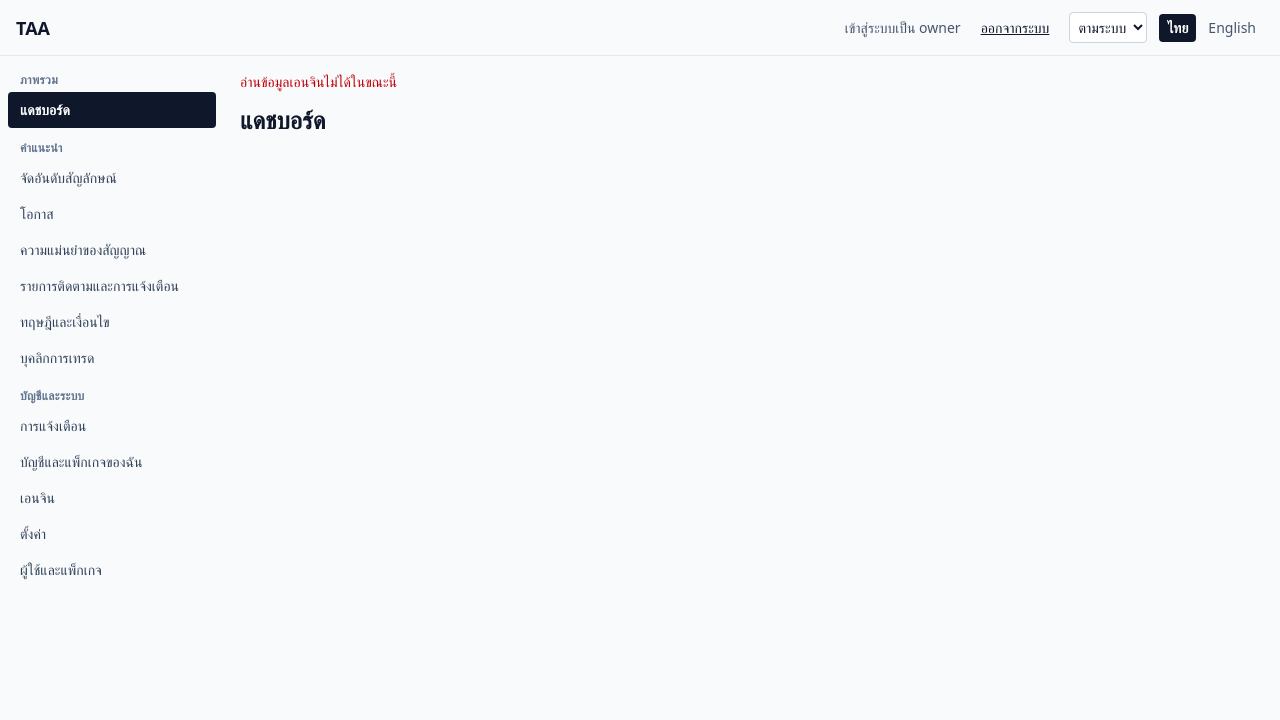
Test: logout › posts with the CSRF token and lands on the login page
The width and height of the screenshot is (1280, 720).
Click the button "ออกจากระบบ".
click(1015, 28)  # box left=973, top=14, right=1057, bottom=42
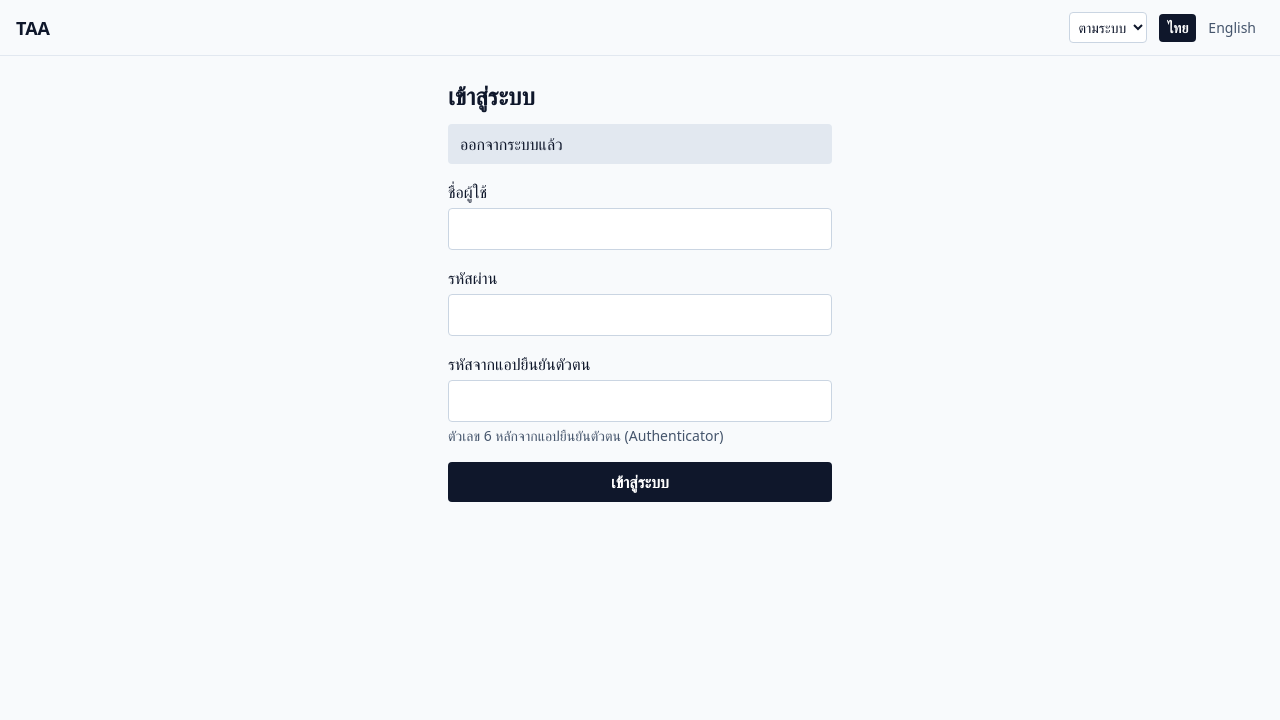
Result: the text "ออกจากระบบแล้ว" is shown at left=448, top=124, right=832, bottom=164
